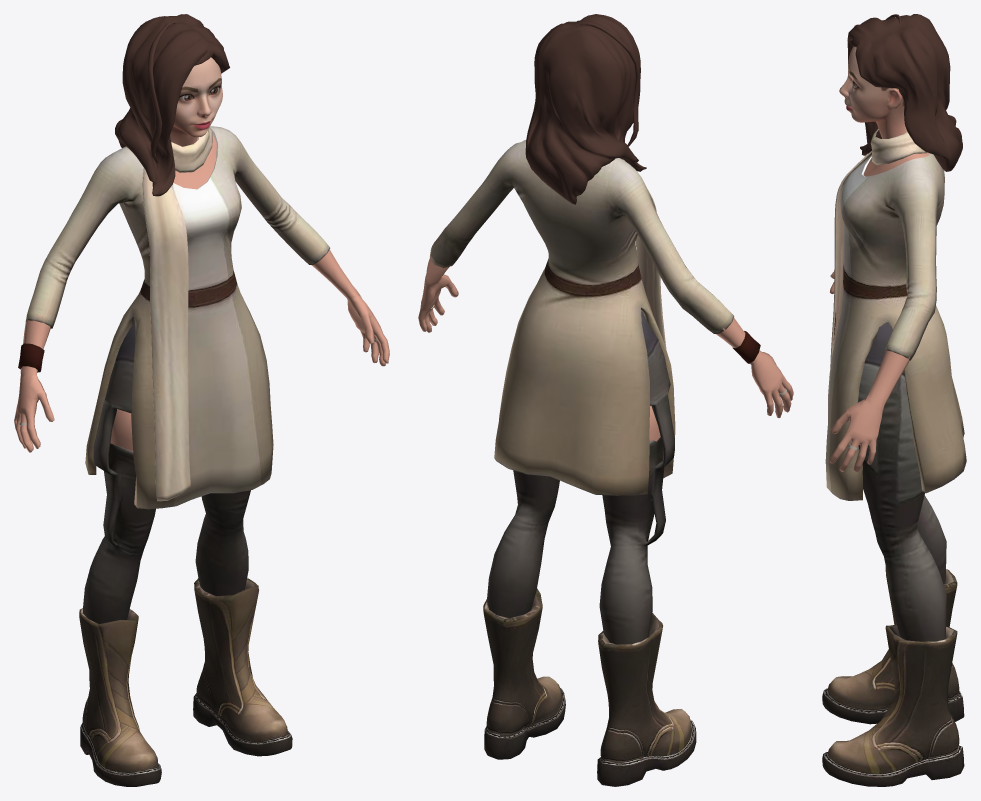
File: scenecopy.gltf
3 views of the same model, side by side, from view 1: azimuth 30°, elevation 25°; view 2: azimuth 150°, elevation 25°; view 3: azimuth 270°, elevation 25° (orthographic).
Visible parts, largest first — view 1: Wolf3D_Outfit_Top, Wolf3D_Outfit_Footwear, Wolf3D_Outfit_Bottom, Wolf3D_Hair, Wolf3D_Body, Wolf3D_Head; view 2: Wolf3D_Outfit_Top, Wolf3D_Outfit_Footwear, Wolf3D_Outfit_Bottom, Wolf3D_Hair, Wolf3D_Body; view 3: Wolf3D_Outfit_Top, Wolf3D_Outfit_Footwear, Wolf3D_Outfit_Bottom, Wolf3D_Hair, Wolf3D_Body, Wolf3D_Head.
Part boxes in pixels (x1,y1,x2,y2): Wolf3D_Outfit_Top: [18, 126, 377, 509]; Wolf3D_Outfit_Footwear: [79, 578, 292, 786]; Wolf3D_Outfit_Bottom: [83, 323, 250, 623]; Wolf3D_Hair: [115, 14, 229, 196]; Wolf3D_Body: [14, 134, 389, 452]; Wolf3D_Head: [170, 57, 222, 146]; Wolf3D_Outfit_Top: [430, 140, 786, 495]; Wolf3D_Outfit_Footwear: [483, 588, 696, 786]; Wolf3D_Outfit_Bottom: [487, 311, 674, 644]; Wolf3D_Hair: [525, 14, 646, 204]; Wolf3D_Body: [418, 257, 793, 441]; Wolf3D_Outfit_Top: [825, 128, 966, 500]; Wolf3D_Outfit_Footwear: [822, 567, 964, 786]; Wolf3D_Outfit_Bottom: [858, 322, 946, 641]; Wolf3D_Hair: [847, 14, 962, 171]; Wolf3D_Body: [829, 152, 929, 472]; Wolf3D_Head: [839, 46, 922, 153].
Size of the model in its own units: 0.9279 by 1.78 by 0.3208.
9 materials, 9 textured.
